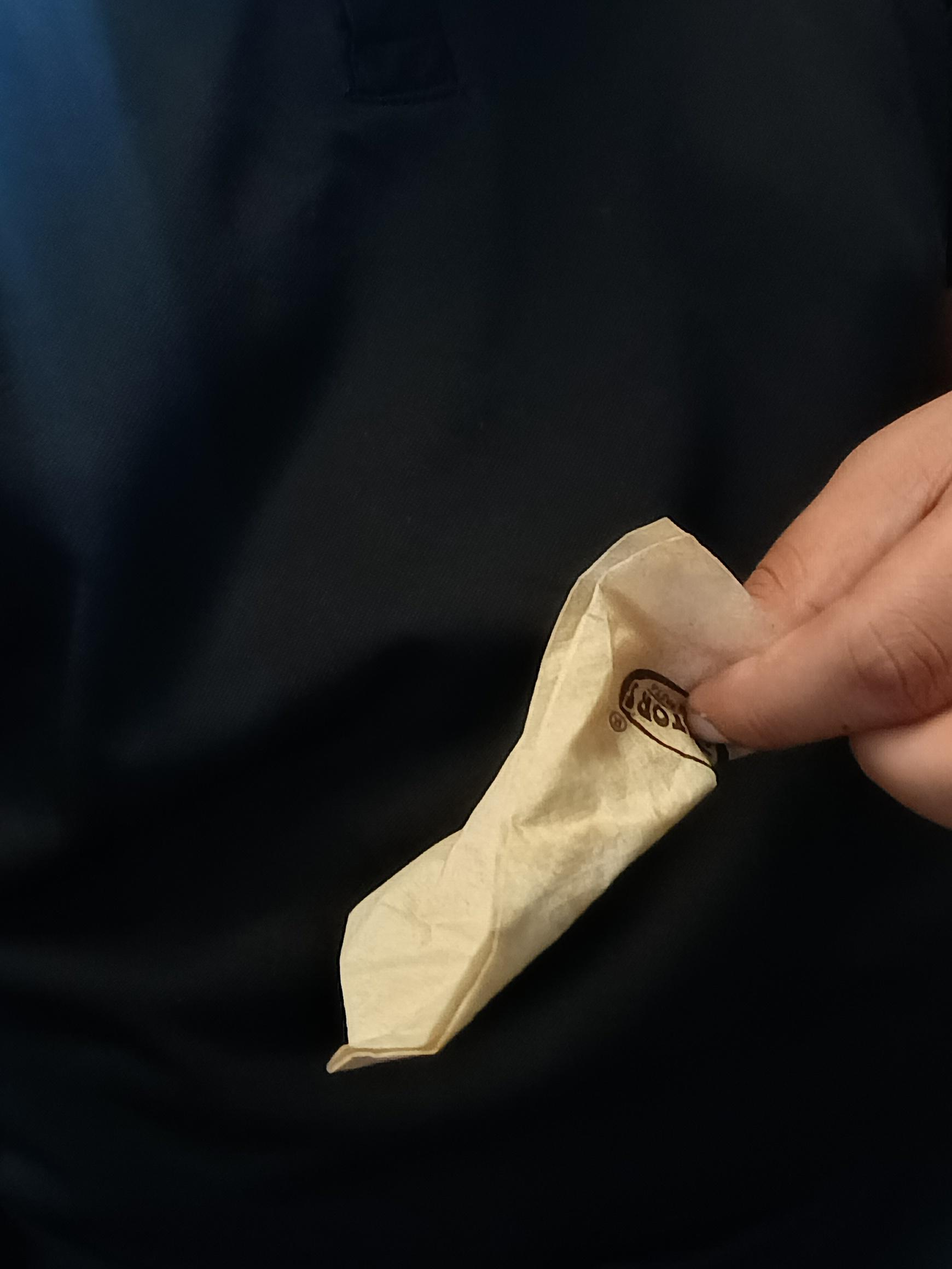Ordinario: (324, 513, 772, 1080)
